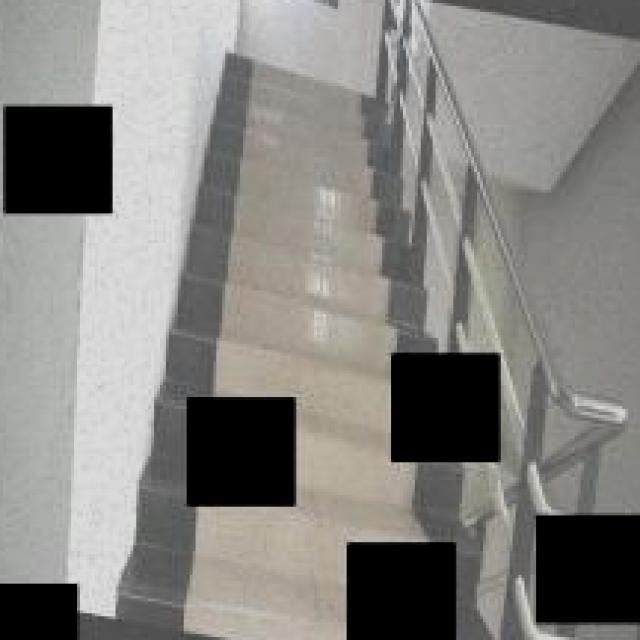upstair: (226, 55, 383, 381)
